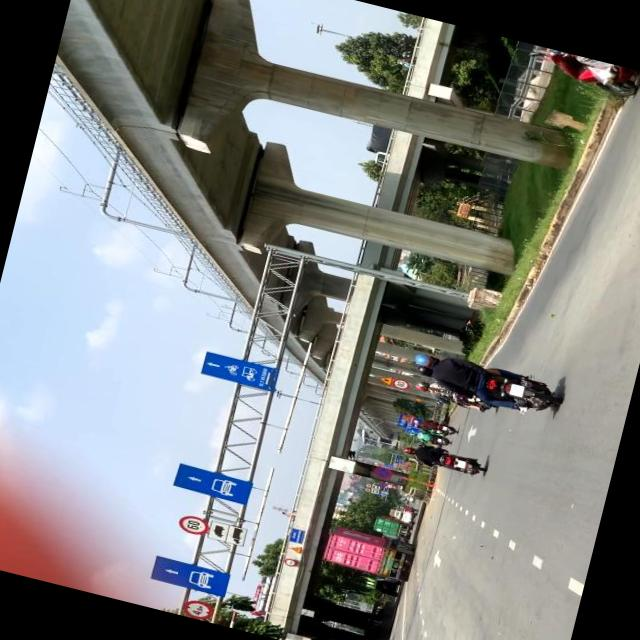P-117: (178, 597, 216, 623)
P-127: (175, 512, 212, 536)
